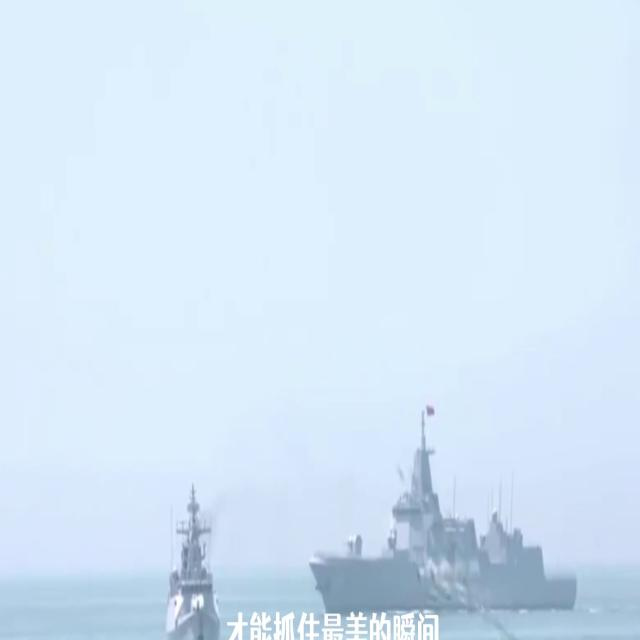navalvessels: (309, 403, 579, 615), (161, 476, 224, 640)
